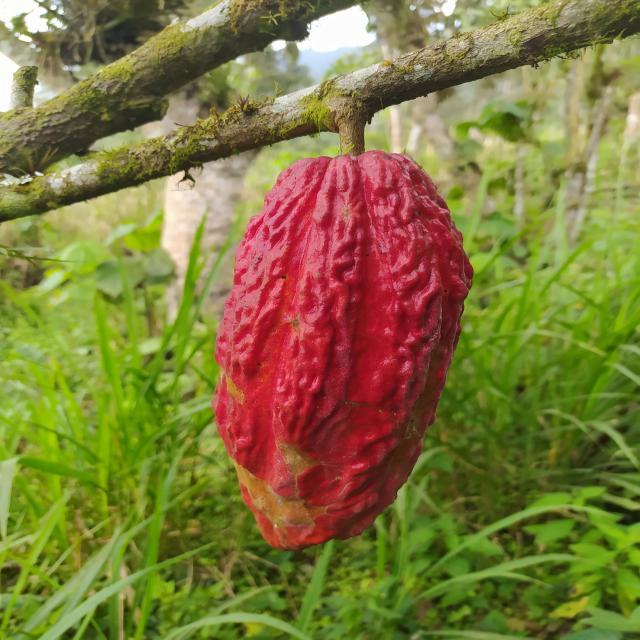Sana: (209, 149, 475, 551)
